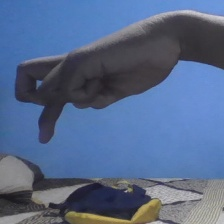P: (14, 6, 184, 149)
